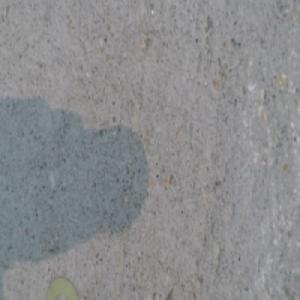Washer: (46, 277, 78, 299)
